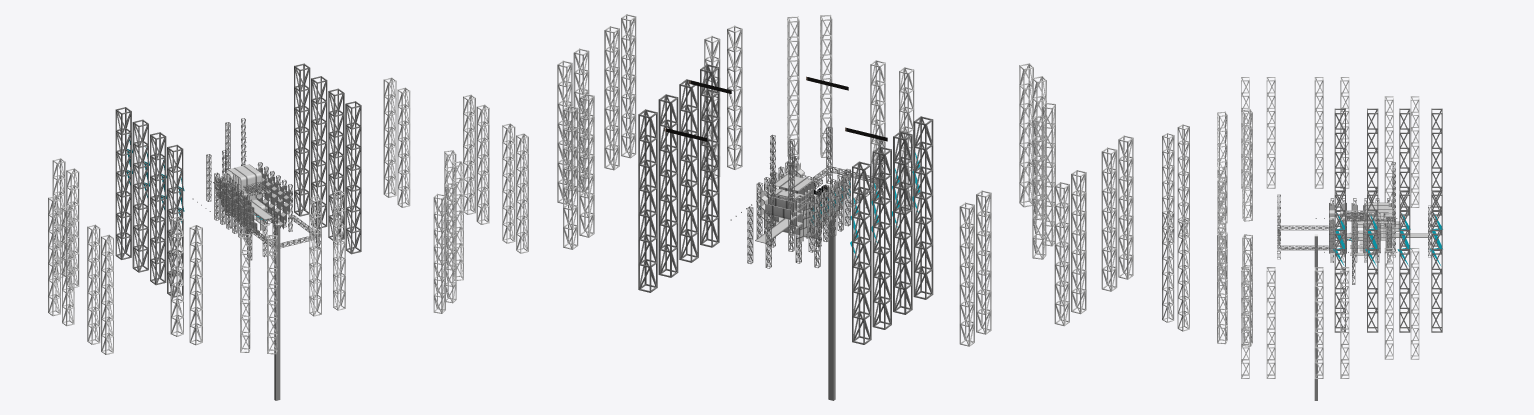
File: metallica.glb
The picture shows the model from 3 angles, left to right: view 1: azimuth 30°, elevation 25°; view 2: azimuth 150°, elevation 25°; view 3: azimuth 270°, elevation 25°; orthographic projection. The views are drawn at different scales.
Parts seen in each view (by area): view 1: ConstructionMesh (×30), Construction; view 2: ConstructionMesh (×30), Construction; view 3: ConstructionMesh (×30), Construction.
Part boxes in pixels (x1,y1,x2,y2): ConstructionMesh (×30): (48, 63, 528, 354); Construction: (274, 224, 280, 400); ConstructionMesh (×30): (557, 14, 1133, 346); Construction: (828, 191, 835, 400); ConstructionMesh (×30): (1162, 77, 1442, 378); Construction: (1314, 236, 1317, 400).
Size of the model in its own units: 285 by 216 by 222.
Materials: 21 (17 with a texture image).
